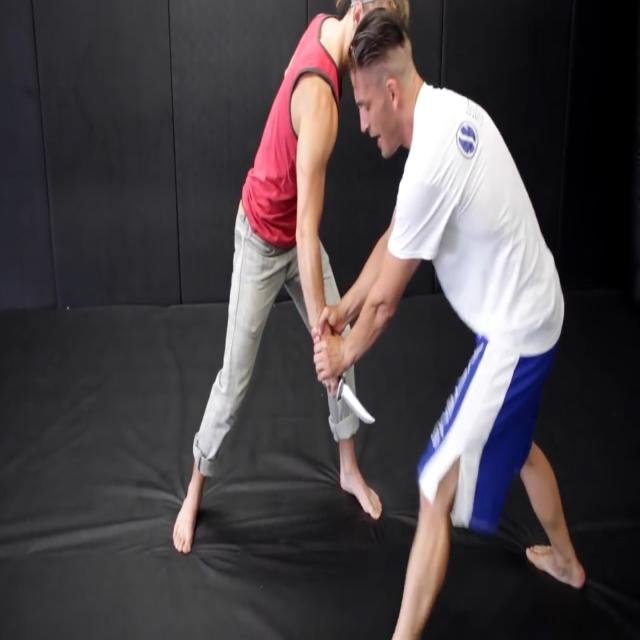knife: (335, 377, 379, 436)
